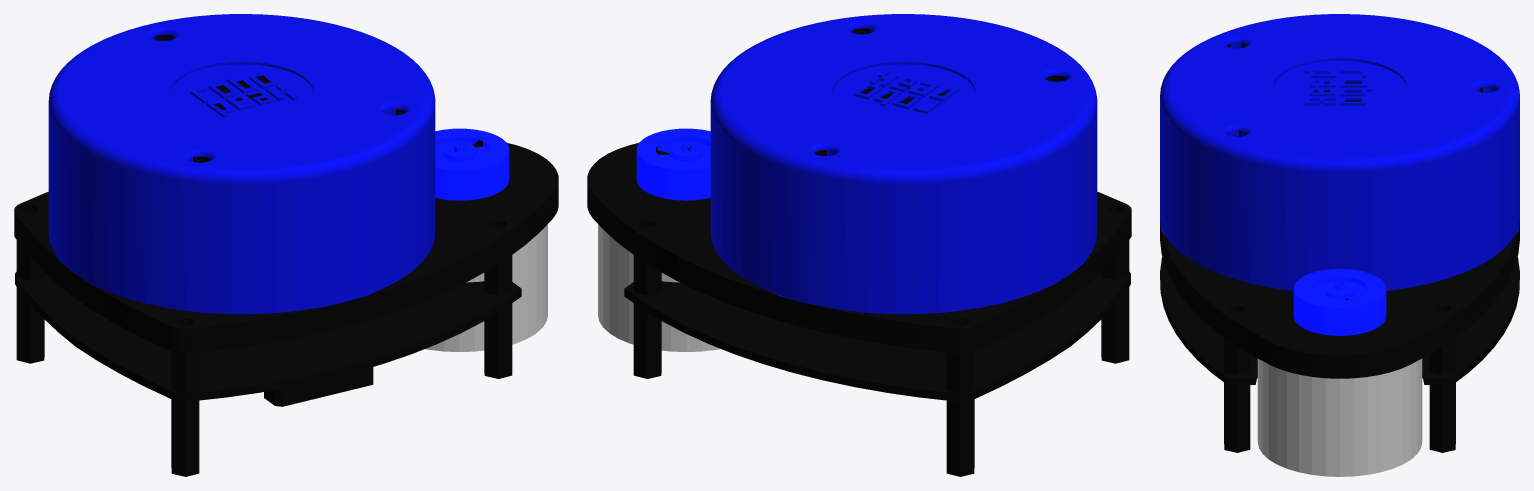
The model's file is ydlidar_x4.dae.
3 views of the same model, side by side, from view 1: azimuth 30°, elevation 25°; view 2: azimuth 150°, elevation 25°; view 3: azimuth 270°, elevation 25° (orthographic). The views are drawn at different scales.
Parts seen in each view (by area): view 1: Badan Lidar - 6.Lidar-1; view 2: Badan Lidar - 6.Lidar-1; view 3: Badan Lidar - 6.Lidar-1.
Boxes of the visible parts, x1,y1,x2,y2 form: Badan Lidar - 6.Lidar-1: [14, 14, 558, 476]; Badan Lidar - 6.Lidar-1: [587, 14, 1131, 476]; Badan Lidar - 6.Lidar-1: [1160, 14, 1519, 476].
Size of the model in its own units: 0.0985 by 0.07 by 0.0577.
